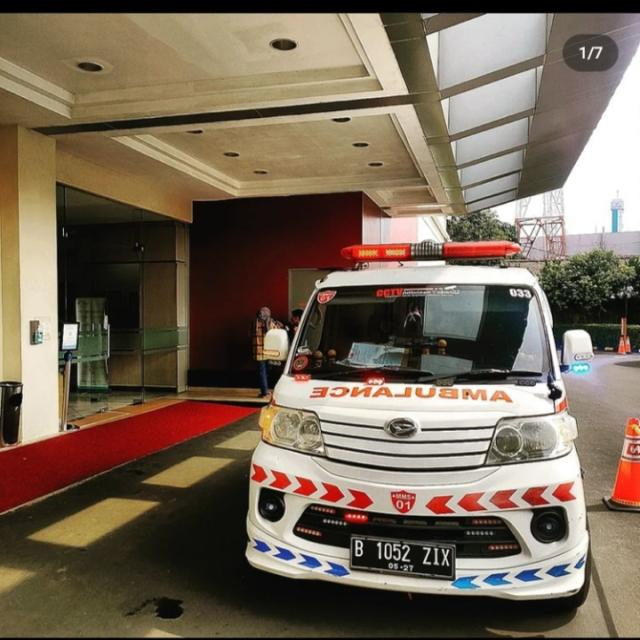emergency-vehicle: (247, 238, 594, 624)
